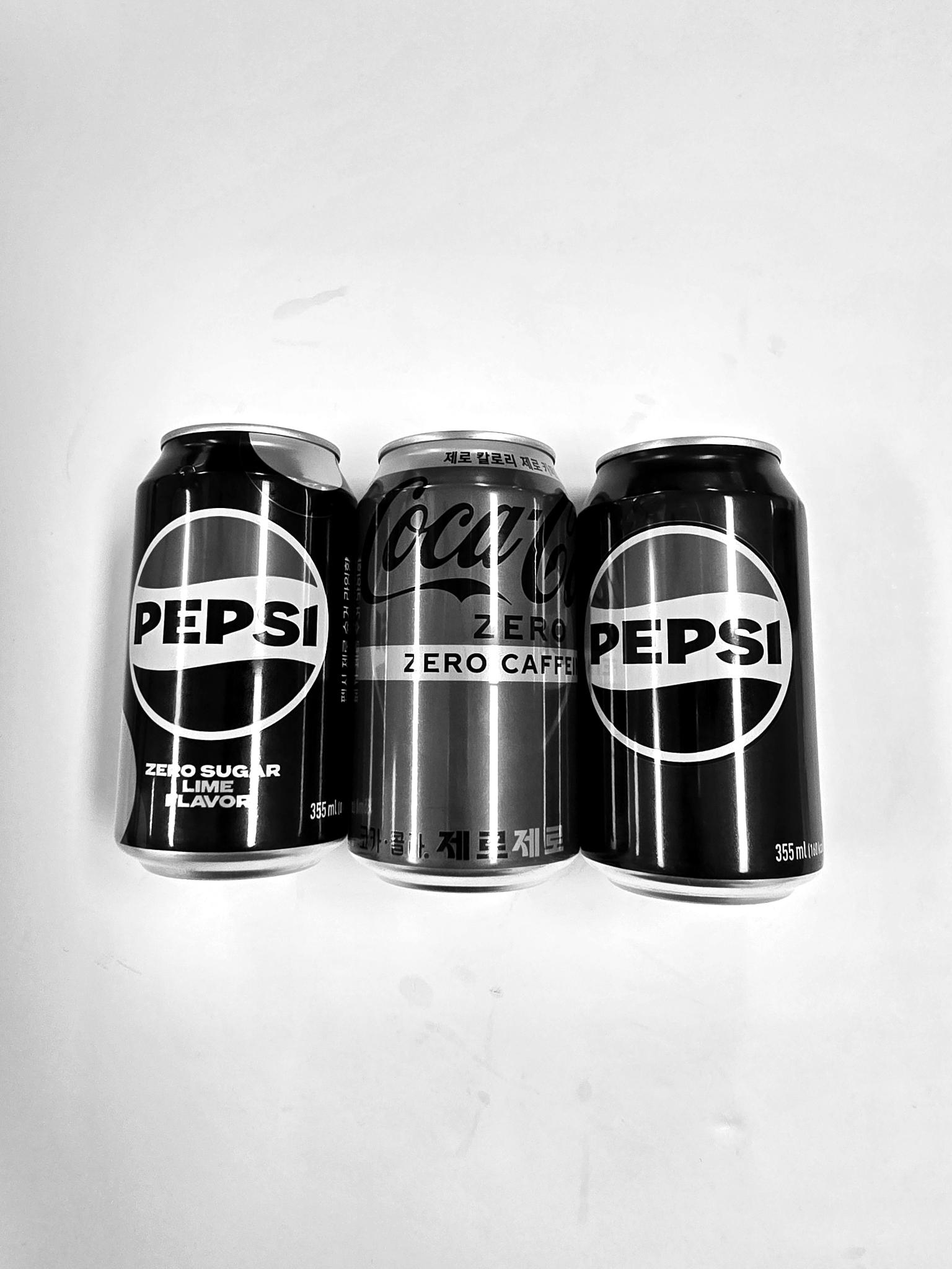can_coke_decaf: (338, 428, 588, 889)
can_pepsi: (579, 439, 828, 906)
can_pepsi_zero: (107, 421, 366, 889)
